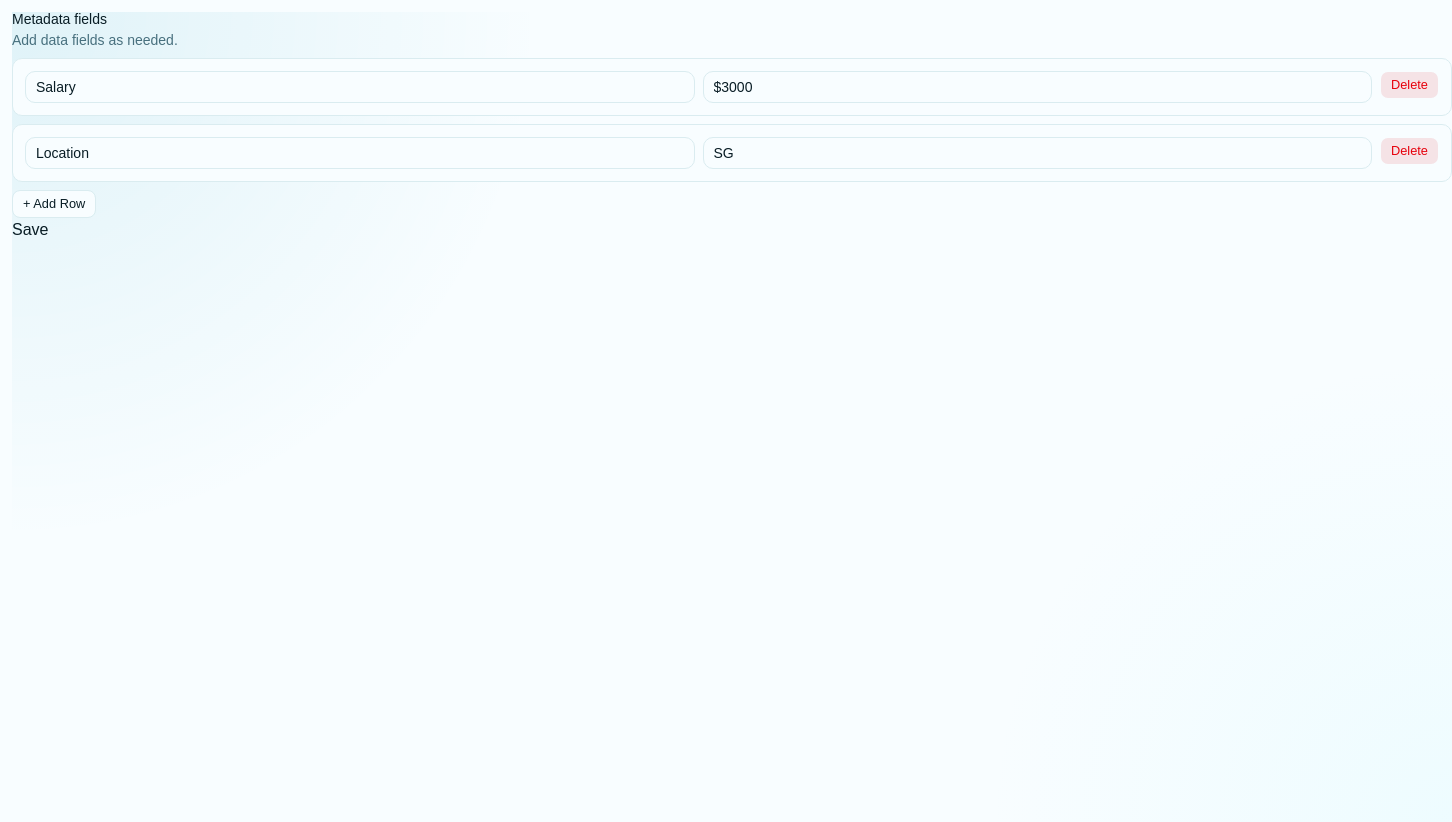
MetadataFieldArray › removes a row
Click the 1st button "Delete": (1410, 85) [1380,71,1439,99]
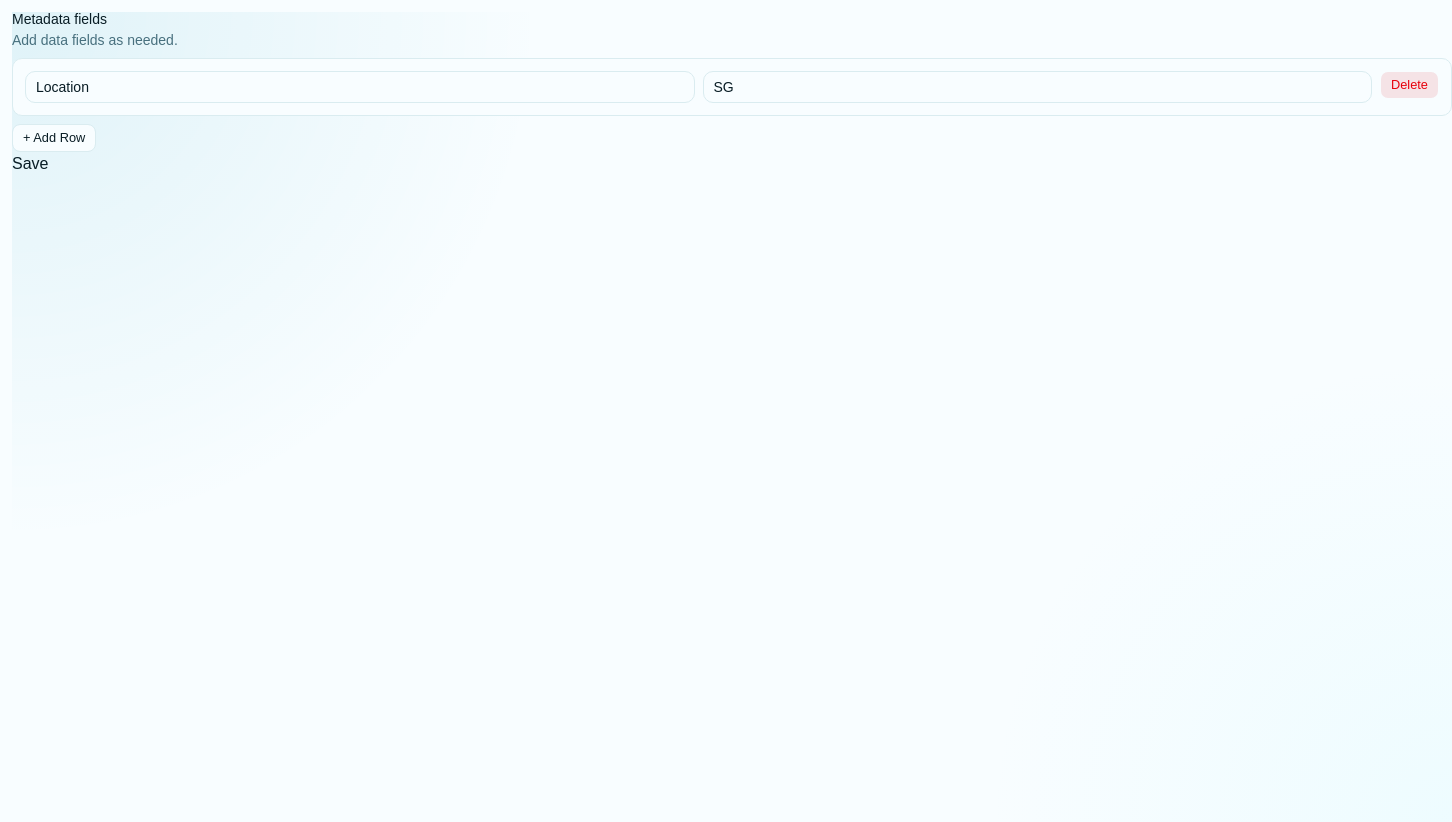
Expected: the number of buttons "Delete" is 1, [1380,71,1439,99]
